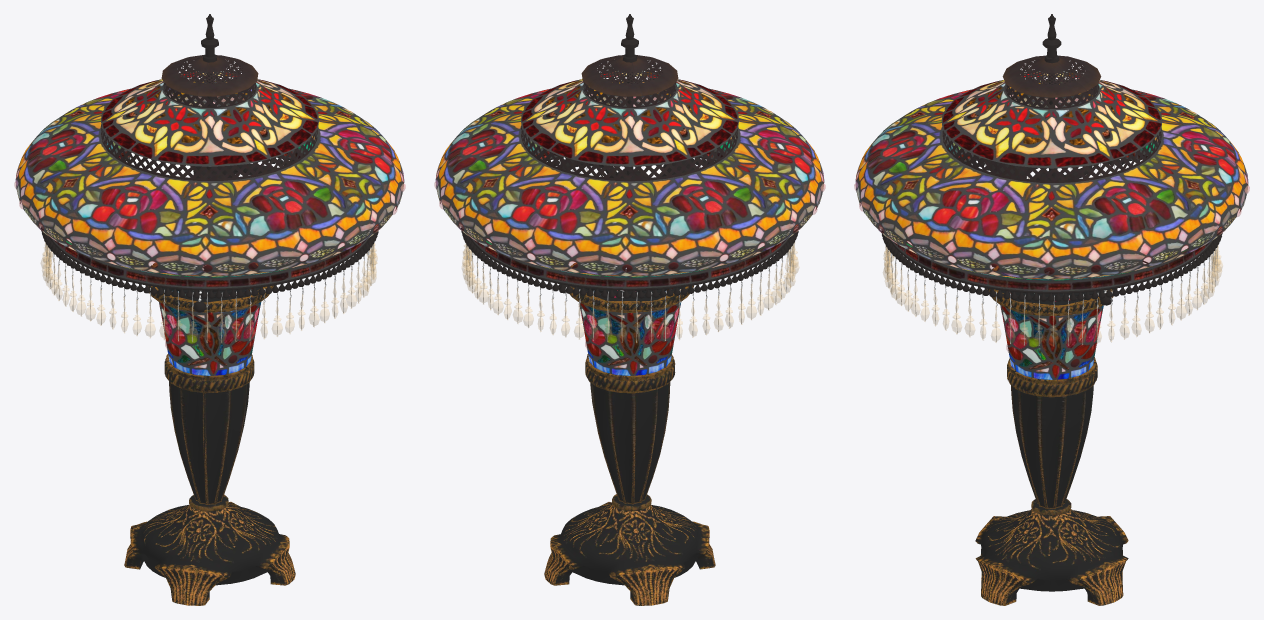
The model's file is StainedGlassLamp.glb.
3 views of the same model, side by side, from view 1: azimuth 30°, elevation 25°; view 2: azimuth 150°, elevation 25°; view 3: azimuth 270°, elevation 25° (orthographic).
Visible parts, largest first — view 1: stainedglass, base, grill, amberbeads, hardware, steel, redgems; view 2: stainedglass, base, grill, amberbeads, hardware, steel, redgems; view 3: stainedglass, base, grill, amberbeads, hardware, steel, redgems.
Part boxes in pixels (<box>): stainedglass: <box>15,71,404,375</box>; base: <box>124,262,295,605</box>; grill: <box>101,55,317,180</box>; amberbeads: <box>41,239,377,342</box>; hardware: <box>41,14,378,312</box>; steel: <box>45,162,373,342</box>; redgems: <box>14,102,405,363</box>; stainedglass: <box>435,71,824,375</box>; base: <box>544,263,715,605</box>; grill: <box>521,55,737,181</box>; amberbeads: <box>462,170,799,342</box>; hardware: <box>461,14,798,298</box>; steel: <box>466,160,794,342</box>; redgems: <box>434,105,825,363</box>; stainedglass: <box>855,71,1248,379</box>; base: <box>975,265,1128,605</box>; grill: <box>942,55,1161,182</box>; amberbeads: <box>883,173,1222,346</box>; hardware: <box>881,14,1222,305</box>; steel: <box>886,163,1217,345</box>; redgems: <box>854,106,1249,367</box>.
Size of the model in its own units: 0.4399 by 0.6889 by 0.4399.
Materials: 8 (4 with a texture image).
